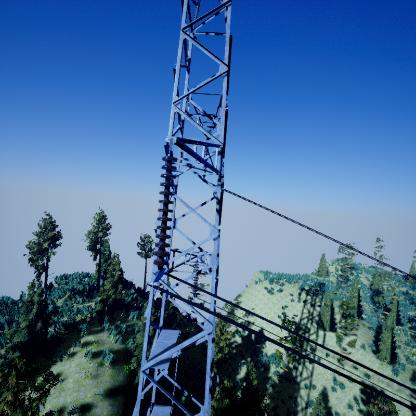insulator: (152, 155, 179, 271)
